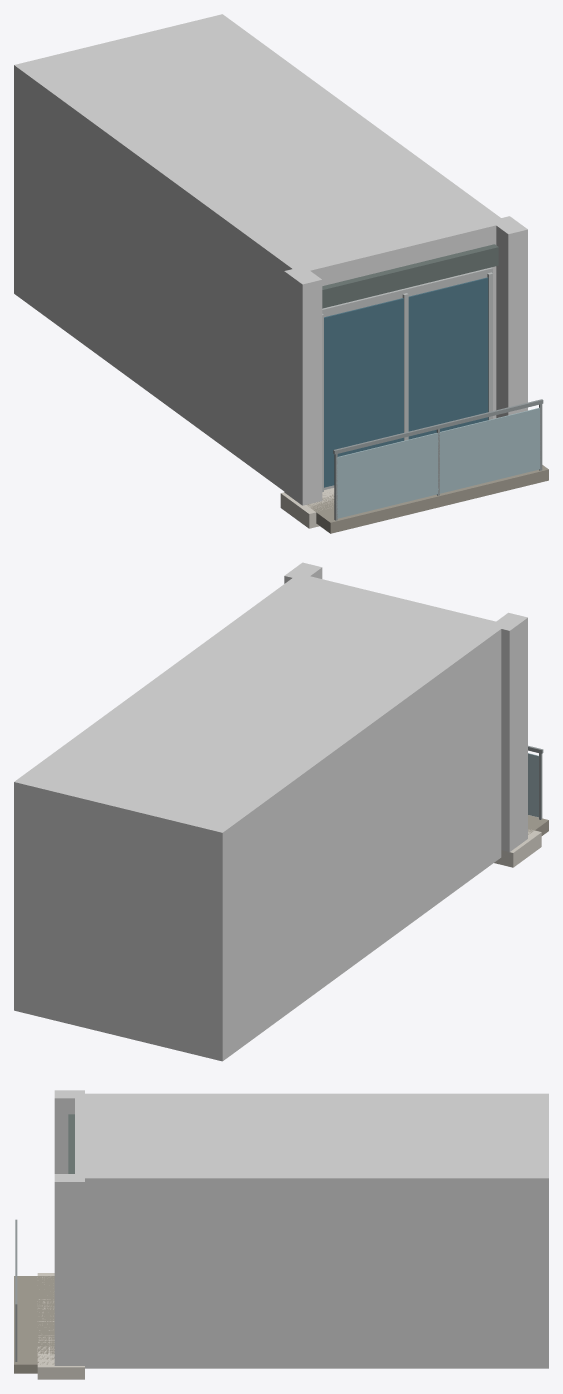
Rendered from lau_kinh_lua_32.glb.
The picture shows the model from 3 angles, top to bottom: view 1: azimuth 30°, elevation 25°; view 2: azimuth 150°, elevation 25°; view 3: azimuth 270°, elevation 25°; orthographic projection. The views are drawn at different scales.
Visible parts, largest first — view 1: lau_kinh_lua_32; view 2: lau_kinh_lua_32; view 3: lau_kinh_lua_32.
Part boxes in pixels (box(x1,y1,x2,y2)): lau_kinh_lua_32: box(14, 14, 548, 533); lau_kinh_lua_32: box(14, 562, 548, 1061); lau_kinh_lua_32: box(14, 1090, 548, 1379).
Bounding box in the file's own units: 3.3 × 3.2 × 7.9.
